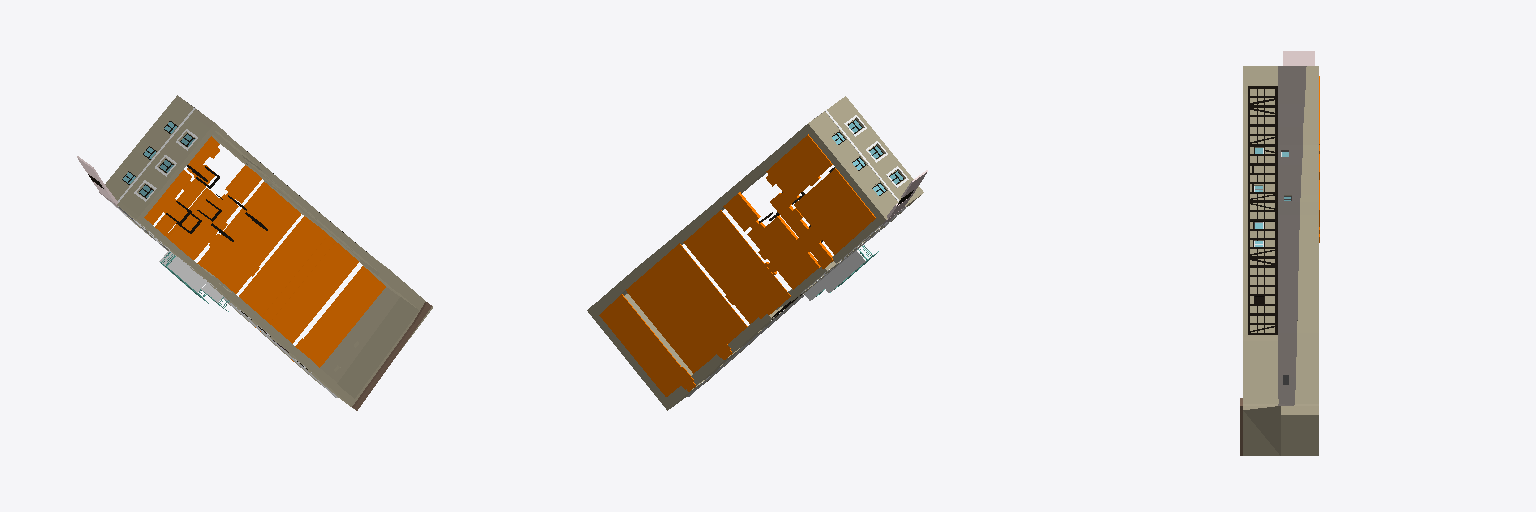
File: obvod.obj
3 views of the same model, side by side, from view 1: azimuth 30°, elevation 25°; view 2: azimuth 150°, elevation 25°; view 3: azimuth 270°, elevation 25° (orthographic).
Visible parts, largest first — view 1: 3D_podlahy, 3D_obvod_zdi_1NP, 3D_okna_dvere, 3D_balkon, 3D_fasada, Default; view 2: 3D_podlahy, 3D_obvod_zdi_1NP, 3D_balkon, 3D_fasada, 3D_okna_dvere; view 3: 3D_obvod_zdi_1NP, pomoc, 3D_dreveny obklad.
Part boxes in pixels (x1,y1,x2,y2): 3D_podlahy: (144,136,385,367); 3D_obvod_zdi_1NP: (118,109,432,408); 3D_okna_dvere: (88,121,307,369); 3D_balkon: (159,250,229,311); 3D_fasada: (99,129,337,397); Default: (352,302,431,410); 3D_podlahy: (599,134,875,396); 3D_obvod_zdi_1NP: (624,96,923,384); 3D_balkon: (804,245,878,300); 3D_fasada: (687,115,908,396); 3D_okna_dvere: (759,119,913,319); 3D_obvod_zdi_1NP: (1243,66,1280,455); pomoc: (1278,66,1306,405); 3D_dreveny obklad: (1248,86,1277,334).
Size of the model in its own units: 28.74 by 27.36 by 6.13.